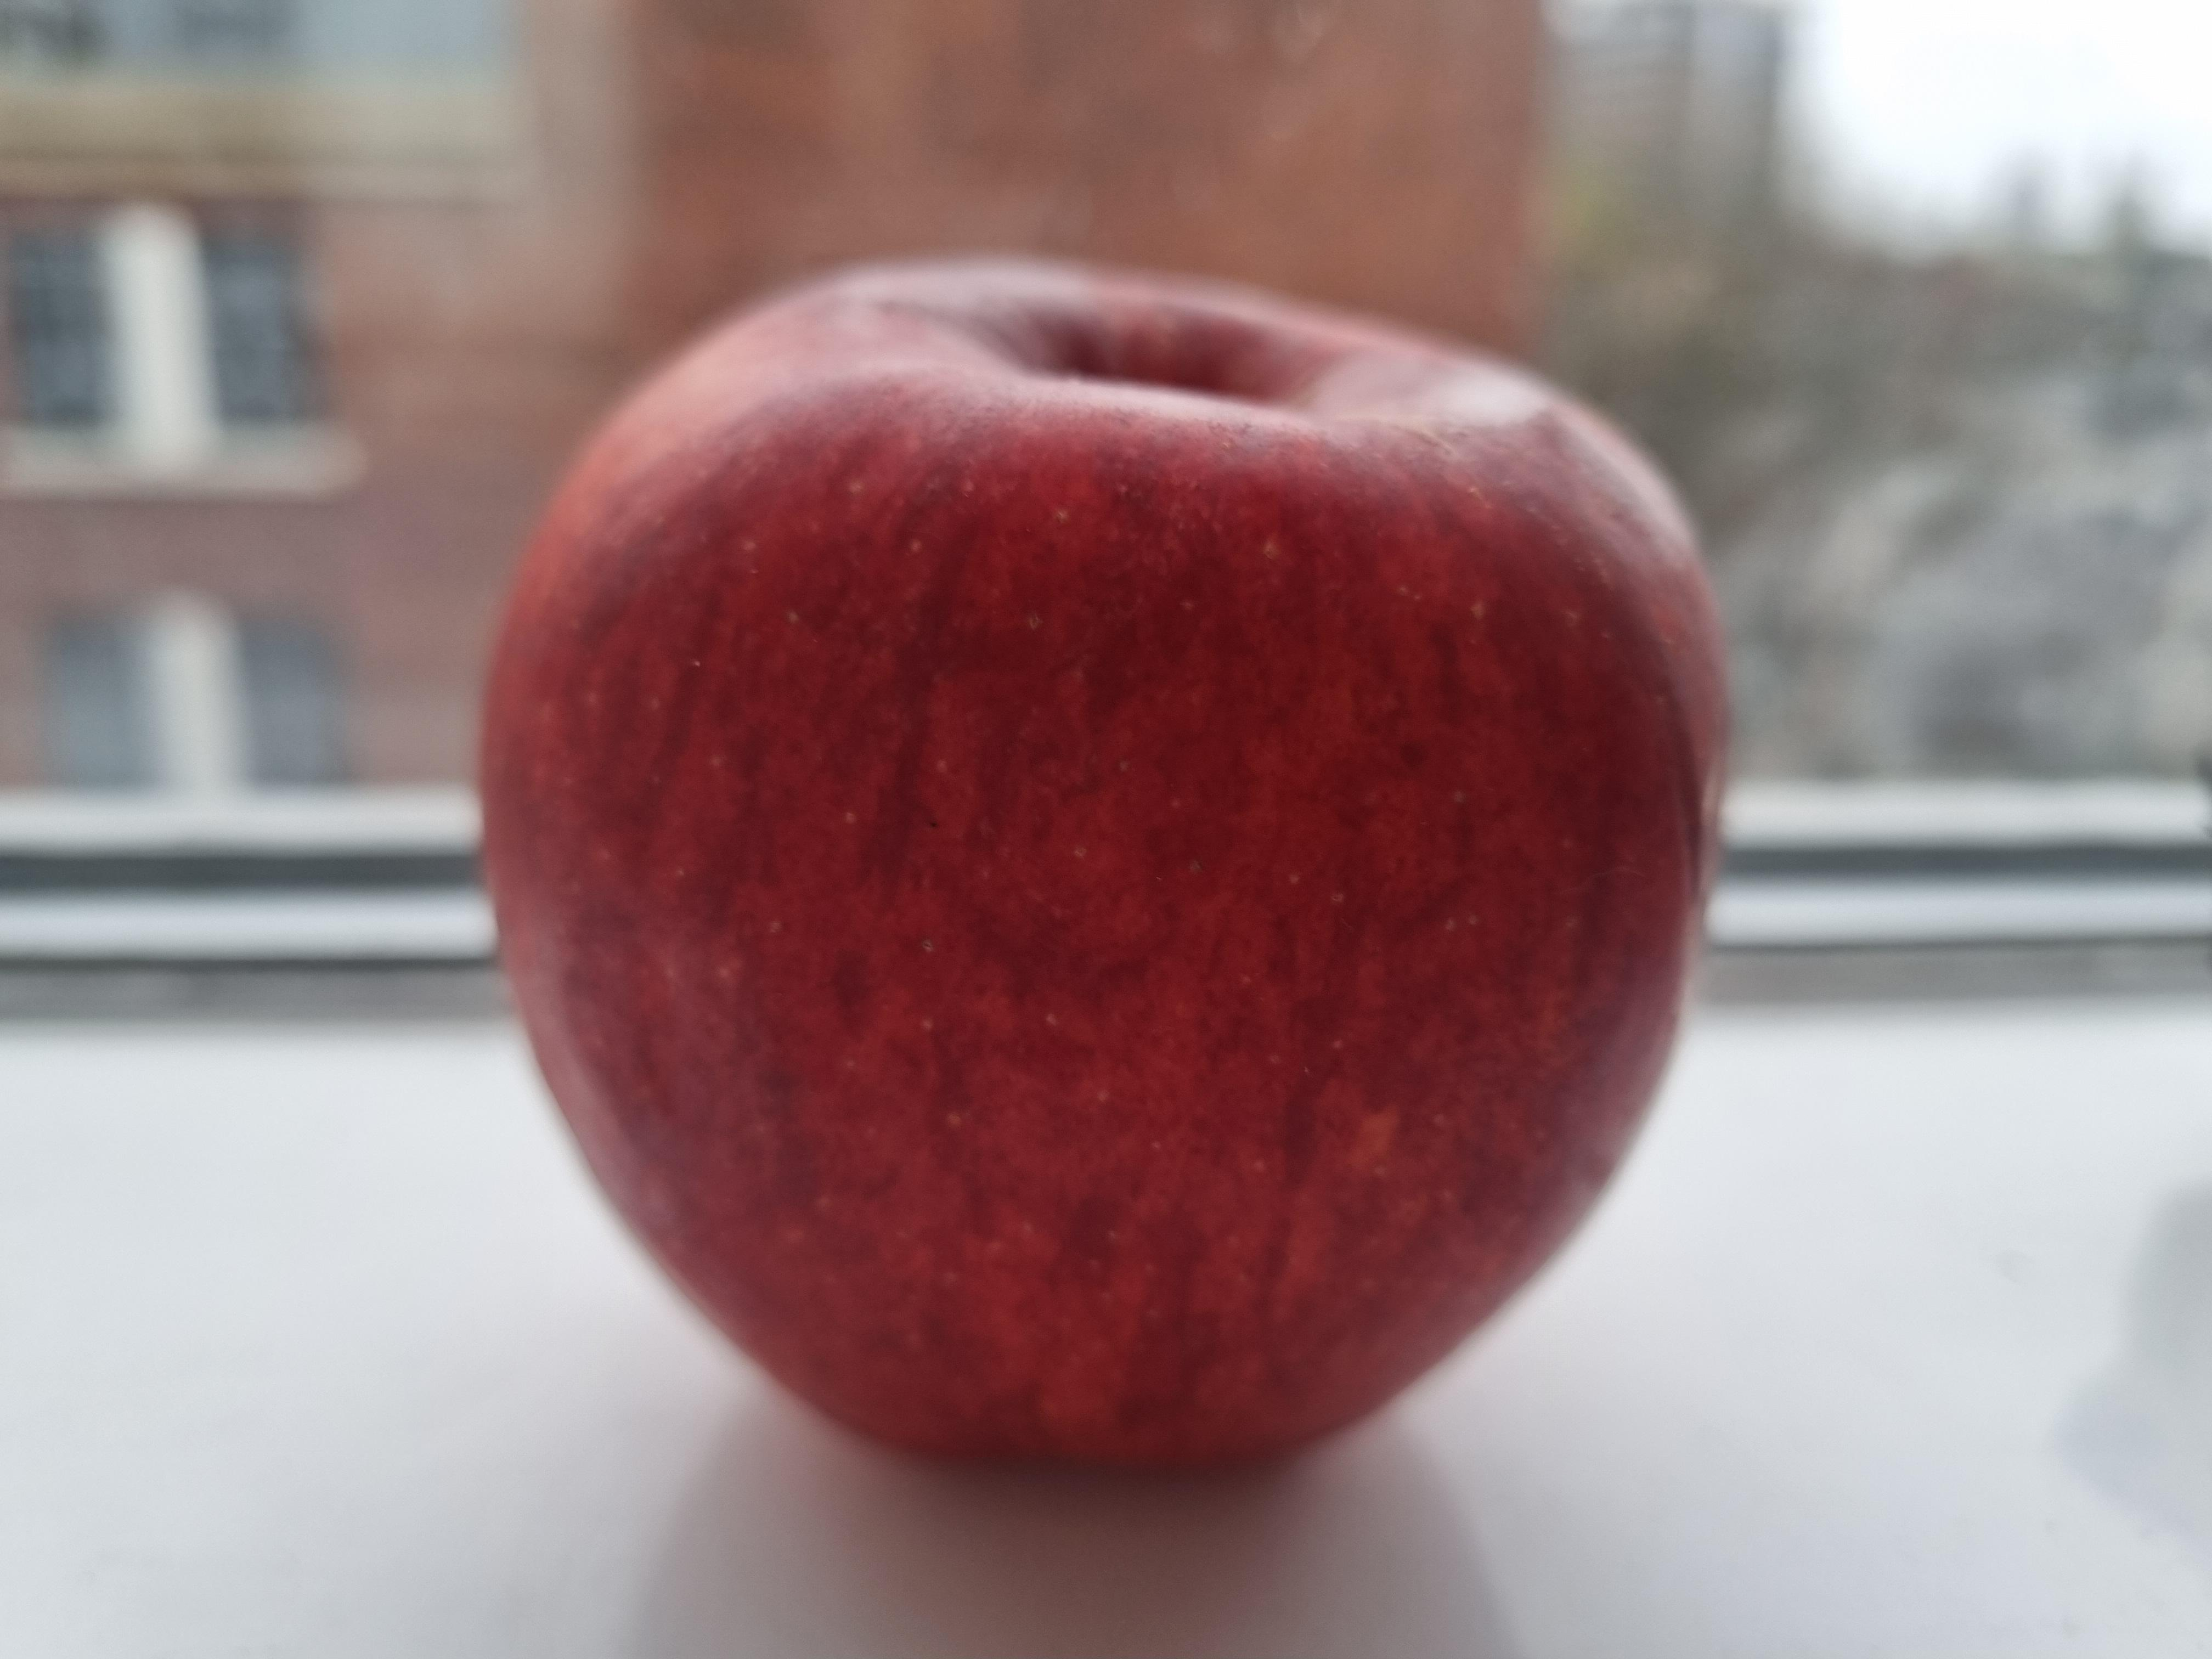Apple: (453, 225, 1750, 1514)
